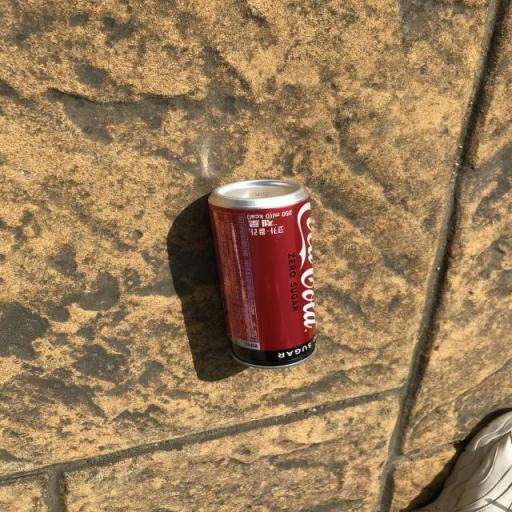metal: (183, 156, 346, 380)
